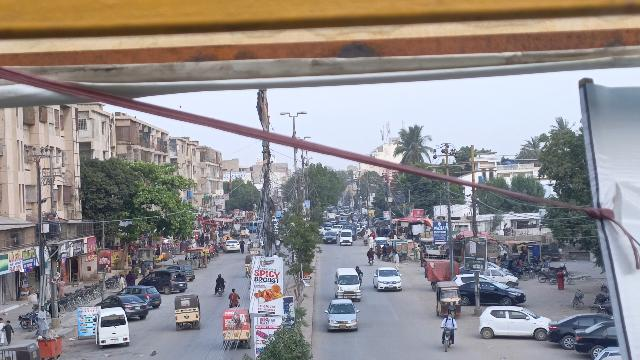Bike: (441, 326, 455, 352), (572, 287, 584, 309), (215, 286, 225, 298), (227, 301, 240, 308), (368, 256, 374, 266)
Car: (479, 303, 550, 343), (546, 311, 614, 352), (459, 279, 526, 307), (573, 320, 618, 355), (92, 294, 149, 318), (324, 297, 360, 334), (138, 270, 190, 293), (117, 284, 162, 308), (371, 265, 405, 293)
Person: (36, 303, 49, 331), (440, 312, 459, 330), (3, 319, 15, 344), (227, 288, 240, 303), (391, 251, 401, 270), (125, 270, 136, 287), (215, 272, 225, 287), (116, 273, 124, 290), (366, 247, 376, 258)
Rickshaw: (429, 280, 464, 318), (171, 292, 202, 332), (221, 308, 252, 348)
Van: (92, 307, 131, 349), (333, 269, 362, 299), (339, 228, 354, 248)
